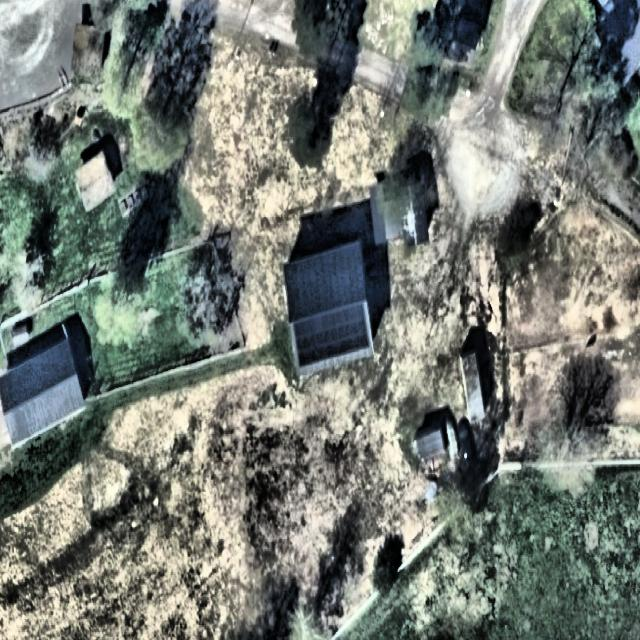roof_pv: (293, 301, 371, 369)
